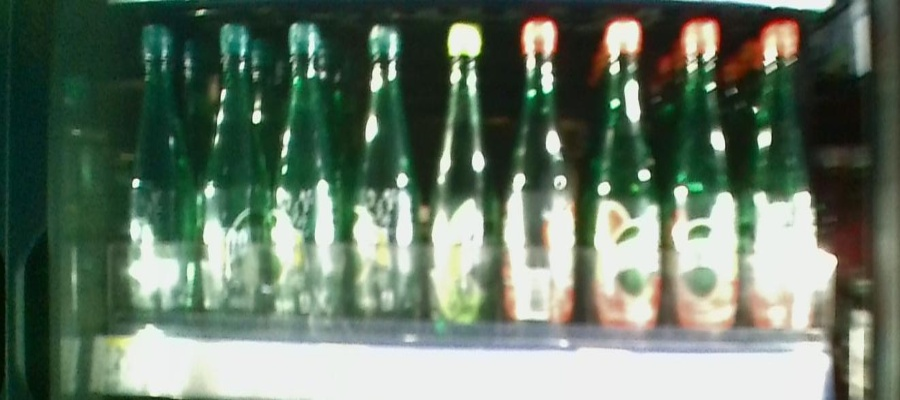bottle: (585, 16, 663, 338), (502, 8, 577, 336), (746, 17, 821, 340), (670, 9, 739, 336), (270, 18, 340, 332), (123, 8, 191, 324), (427, 20, 495, 332), (353, 20, 416, 321), (200, 21, 259, 317)
